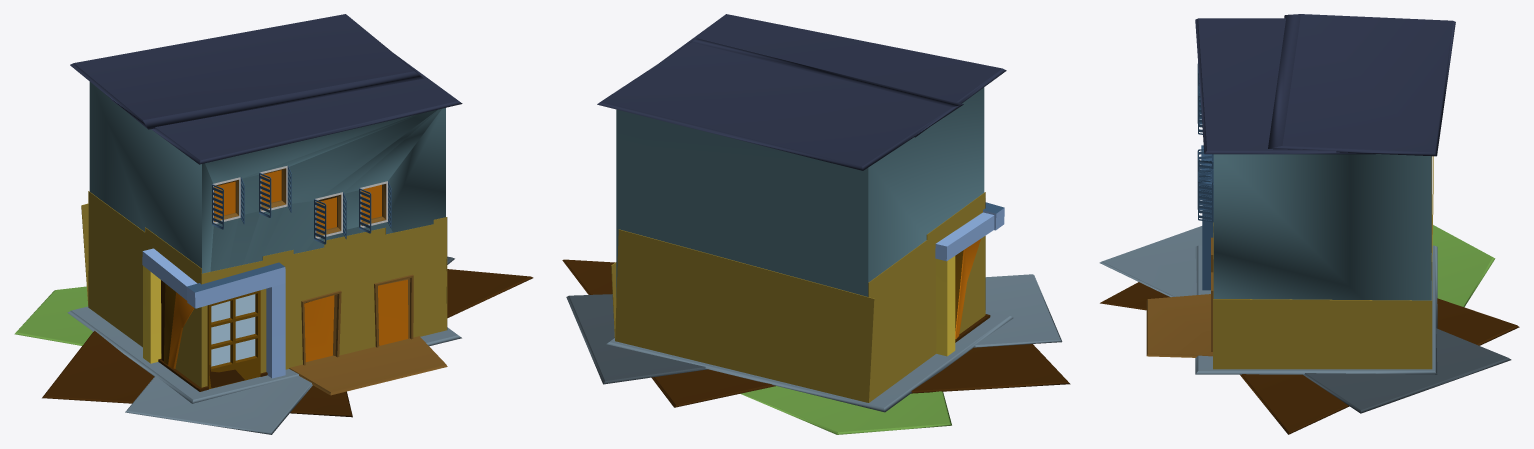
Rendered from Palazzo Cafe.fbx.
The picture shows the model from 3 angles, left to right: view 1: azimuth 30°, elevation 25°; view 2: azimuth 150°, elevation 25°; view 3: azimuth 270°, elevation 25°; orthographic projection. The views are drawn at different scales.
Parts seen in each view (by area): view 1: Palazzo Cafe, Porta Palazzo Cafe; view 2: Palazzo Cafe; view 3: Palazzo Cafe.
Part boxes in pixels (x1,y1,x2,y2): Palazzo Cafe: (14, 14, 533, 434); Porta Palazzo Cafe: (207, 290, 260, 389); Palazzo Cafe: (562, 14, 1070, 434); Palazzo Cafe: (1099, 14, 1519, 434).
Bounding box in the file's own units: 262 × 125 × 200.
